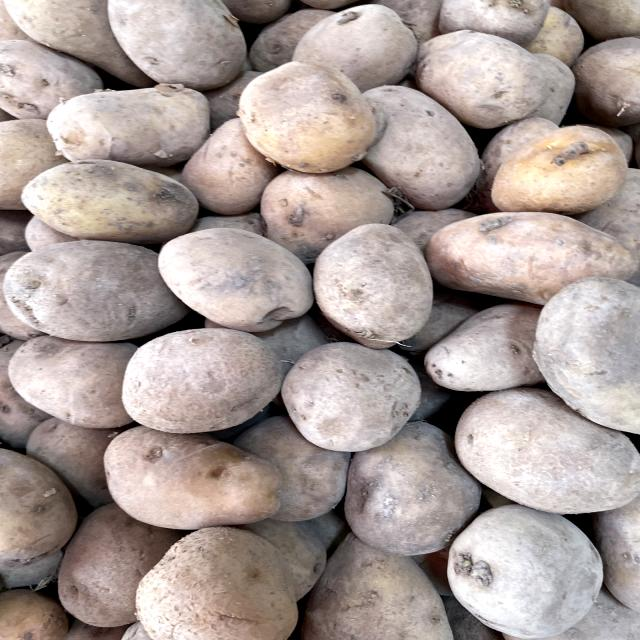potato: (82, 419, 286, 532), (428, 201, 633, 303), (148, 217, 317, 340), (277, 332, 431, 455), (107, 325, 285, 430), (305, 218, 440, 352), (233, 58, 387, 173), (13, 155, 211, 244), (45, 70, 216, 170)
